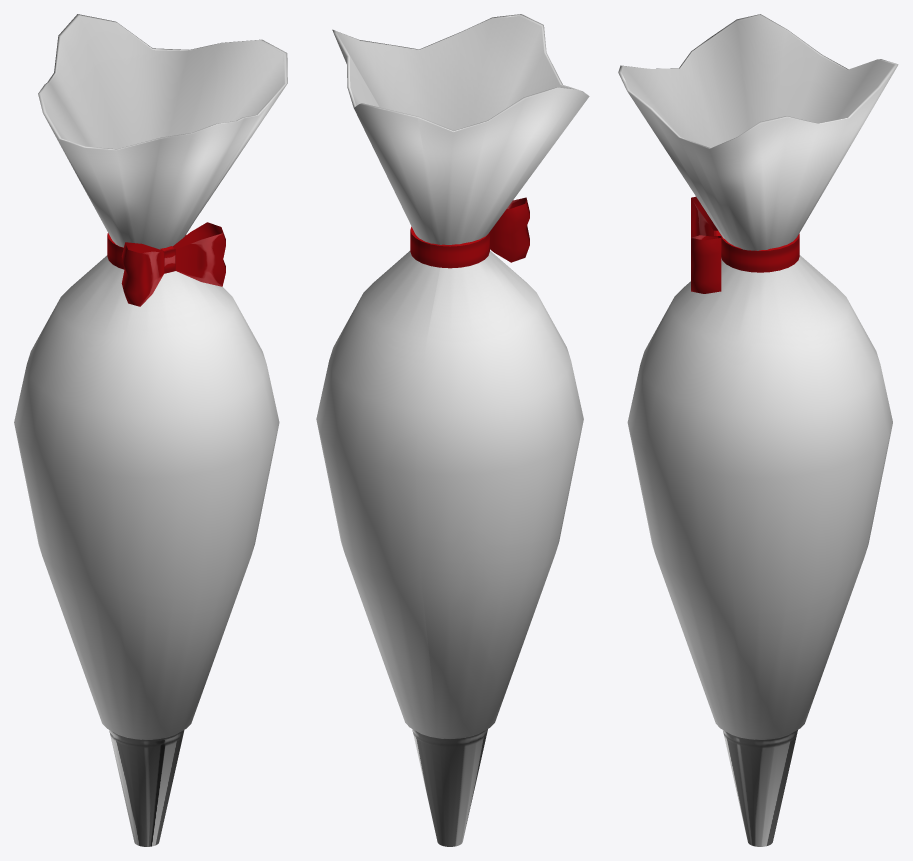
Rendered from Pastry_Bag 1.fbx.
3 renders of one model, left to right at view 1: azimuth 30°, elevation 25°; view 2: azimuth 150°, elevation 25°; view 3: azimuth 270°, elevation 25°, orthographic.
Visible parts, largest first — view 1: Plane004; view 2: Plane004; view 3: Plane004.
Part boxes in pixels (x1,y1,x2,y2): Plane004: (14,14,287,846); Plane004: (316,14,589,846); Plane004: (618,14,898,846).
Size of the model in its own units: 8.68 by 26.36 by 8.62.
Materials: 1 (1 with a texture image).
